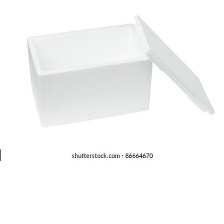foam_box: (23, 10, 218, 129)
